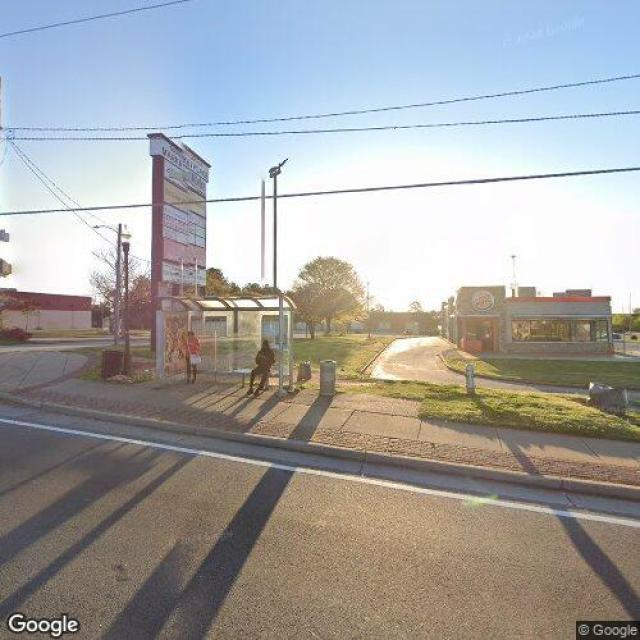seating: (226, 367, 278, 389)
shelter: (155, 294, 297, 398)
trash_can: (319, 359, 338, 396), (101, 350, 123, 380)
